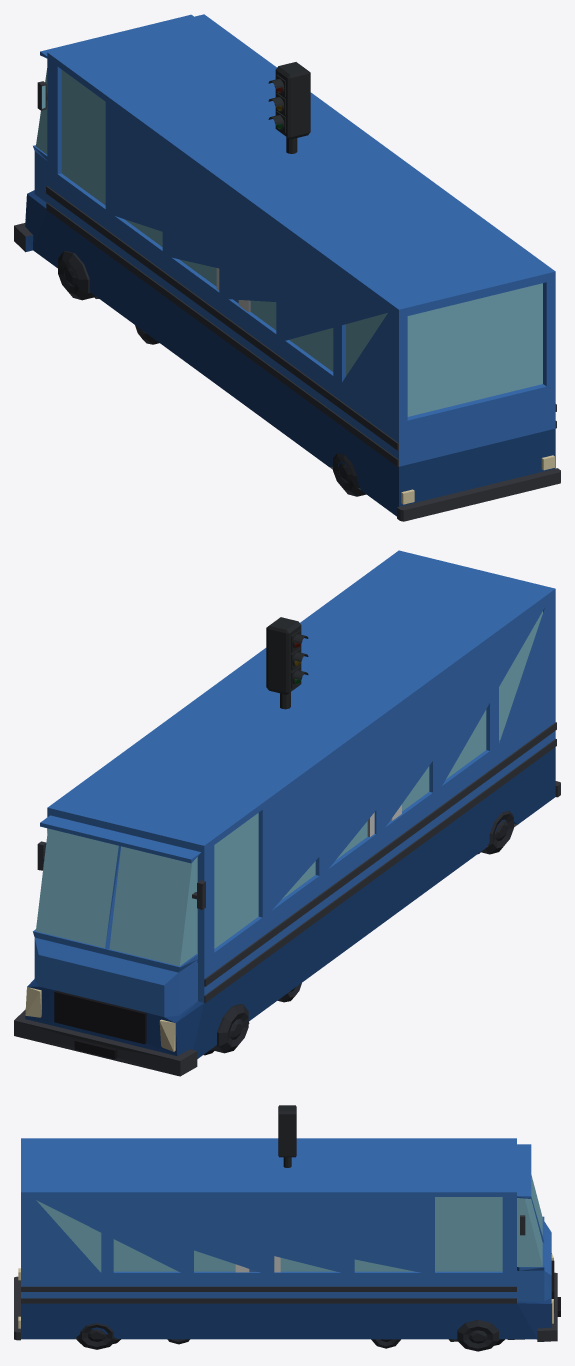
File: transport.glb
3 renders of one model, top to bottom at view 1: azimuth 30°, elevation 25°; view 2: azimuth 150°, elevation 25°; view 3: azimuth 270°, elevation 25°, orthographic. The views are drawn at different scales.
Visible parts, largest first — view 1: Bus, TrafficLight; view 2: Bus, TrafficLight; view 3: Bus, TrafficLight, Ambulance.
Boxes of the visible parts, x1=… form: Bus: x1=14, y1=14, x2=560, y2=521; TrafficLight: x1=268, y1=62, x2=310, y2=153; Bus: x1=14, y1=550, x2=560, y2=1076; TrafficLight: x1=266, y1=617, x2=308, y2=709; Bus: x1=14, y1=1138, x2=560, y2=1351; TrafficLight: x1=278, y1=1105, x2=296, y2=1167; Ambulance: x1=167, y1=1256, x2=400, y2=1348.
Bounding box in the file's own units: 2.69 × 4.6 × 10.5.
